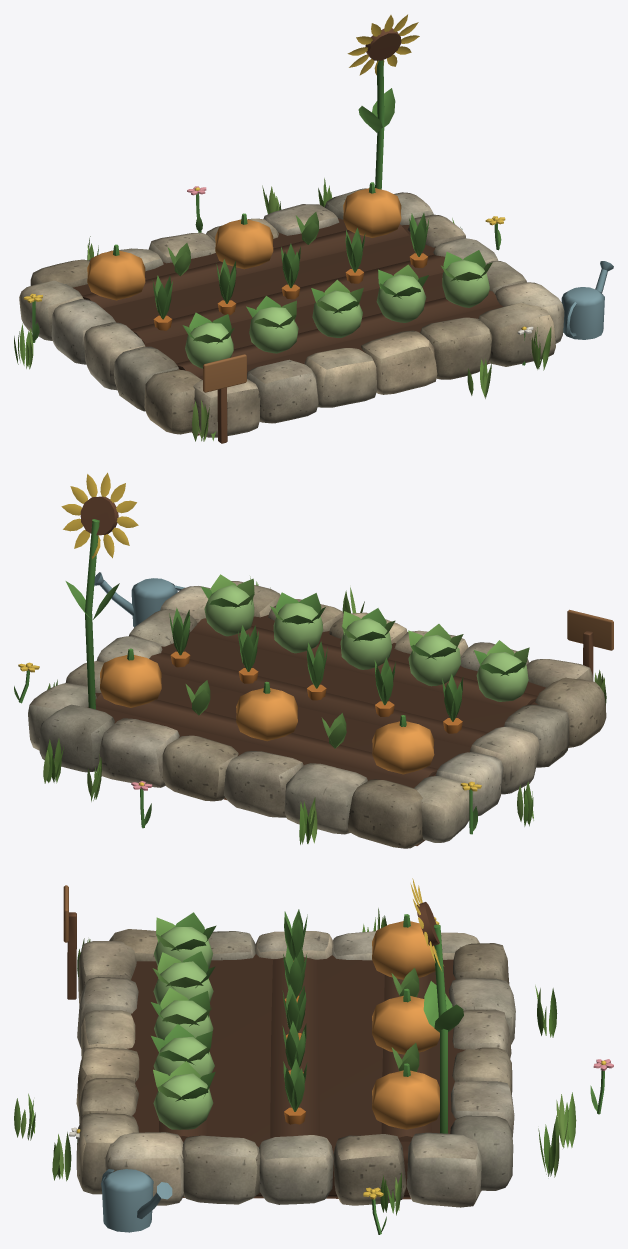
The model's file is garden_plot.gltf.
3 renders of one model, top to bottom at view 1: azimuth 30°, elevation 25°; view 2: azimuth 150°, elevation 25°; view 3: azimuth 270°, elevation 25°, orthographic. The views are drawn at different scales.
Visible parts, largest first — view 1: Stones, Plot, Crops_summer; view 2: Stones, Plot, Crops_summer; view 3: Stones, Plot, Crops_summer.
Boxes of the visible parts, x1=… form: Stones: x1=19, y1=188, x2=564, y2=437; Plot: x1=14, y1=178, x2=613, y2=443; Crops_summer: x1=87, y1=14, x2=492, y2=368; Stones: x1=28, y1=581, x2=606, y2=848; Plot: x1=14, y1=572, x2=613, y2=845; Crops_summer: x1=61, y1=472, x2=529, y2=774; Stones: x1=76, y1=929, x2=515, y2=1207; Plot: x1=14, y1=885, x2=613, y2=1234; Crops_summer: x1=151, y1=878, x2=463, y2=1133.
Size of the model in its own units: 3.76 by 1.81 by 3.23.
Materials: 41 (1 with a texture image).
